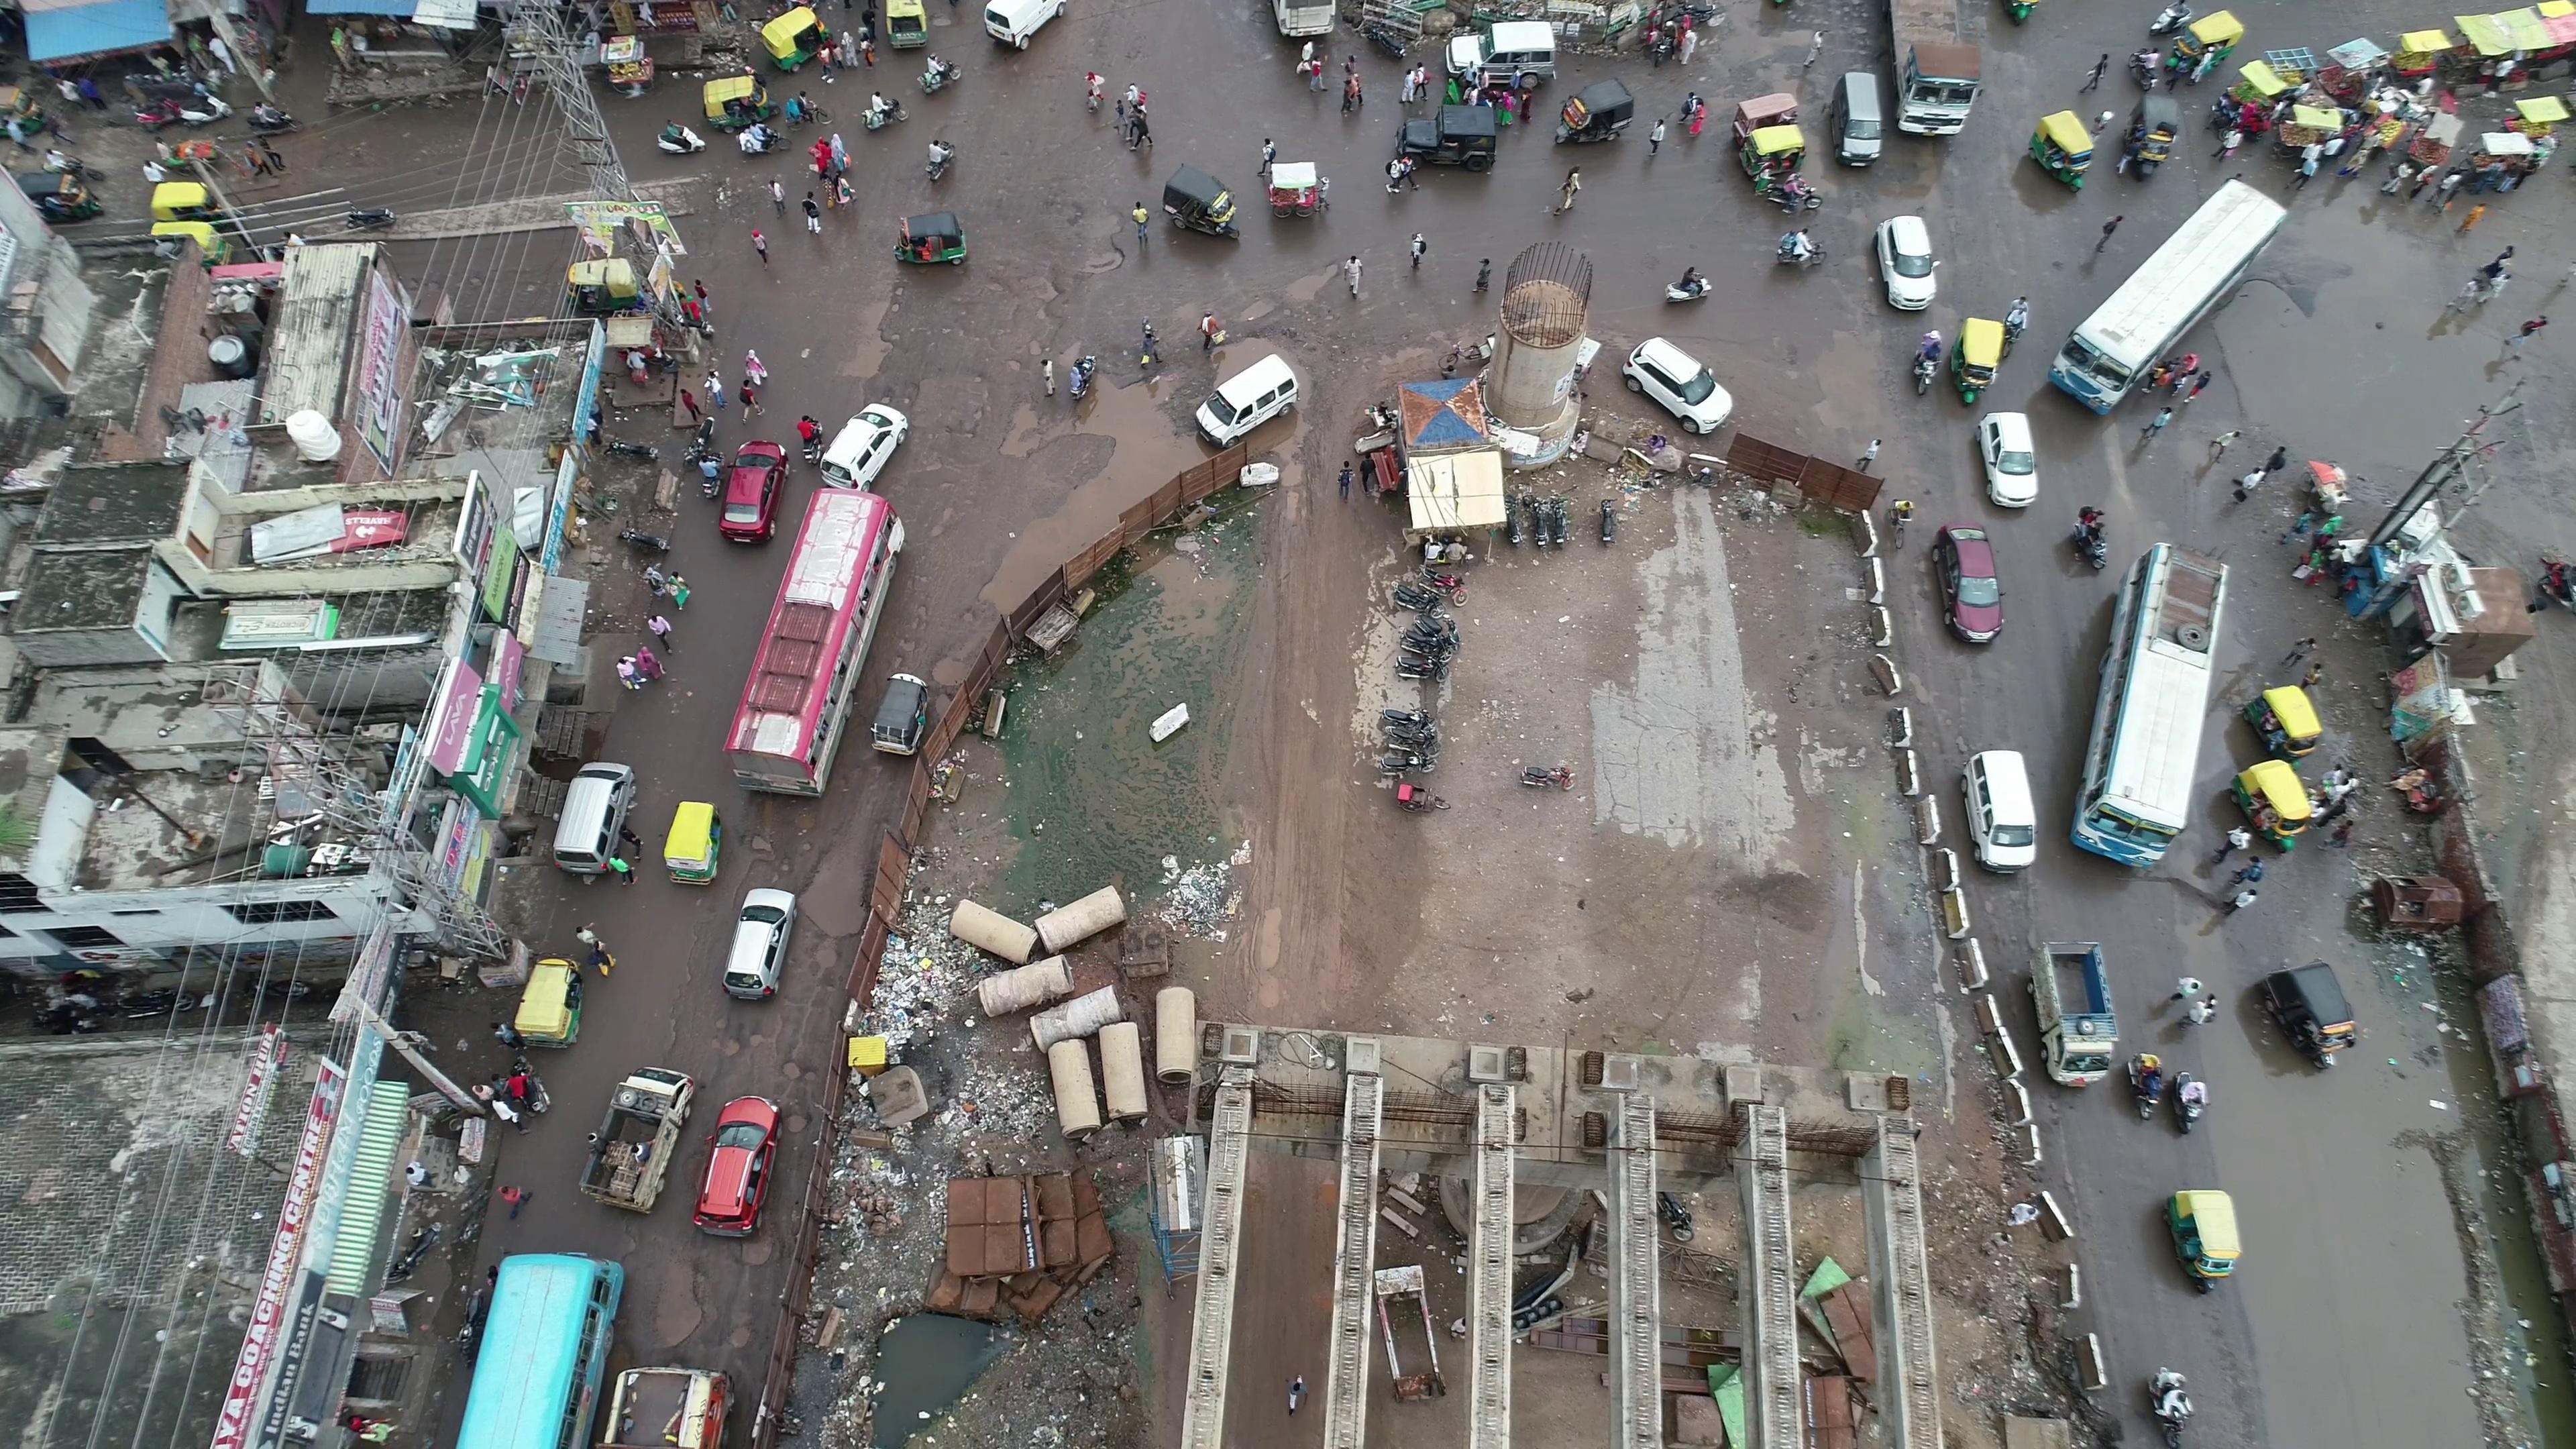Potholes: (886, 582, 954, 667), (867, 283, 941, 356)
